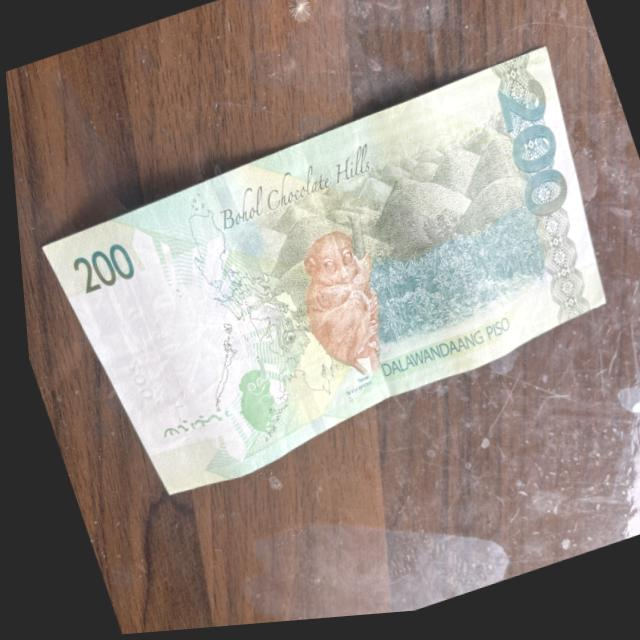200_tarsier: (269, 211, 412, 416)
200_tarsier_watermark: (204, 344, 304, 469)
value_watermark: (106, 337, 158, 424)
watermark: (93, 245, 236, 433)
